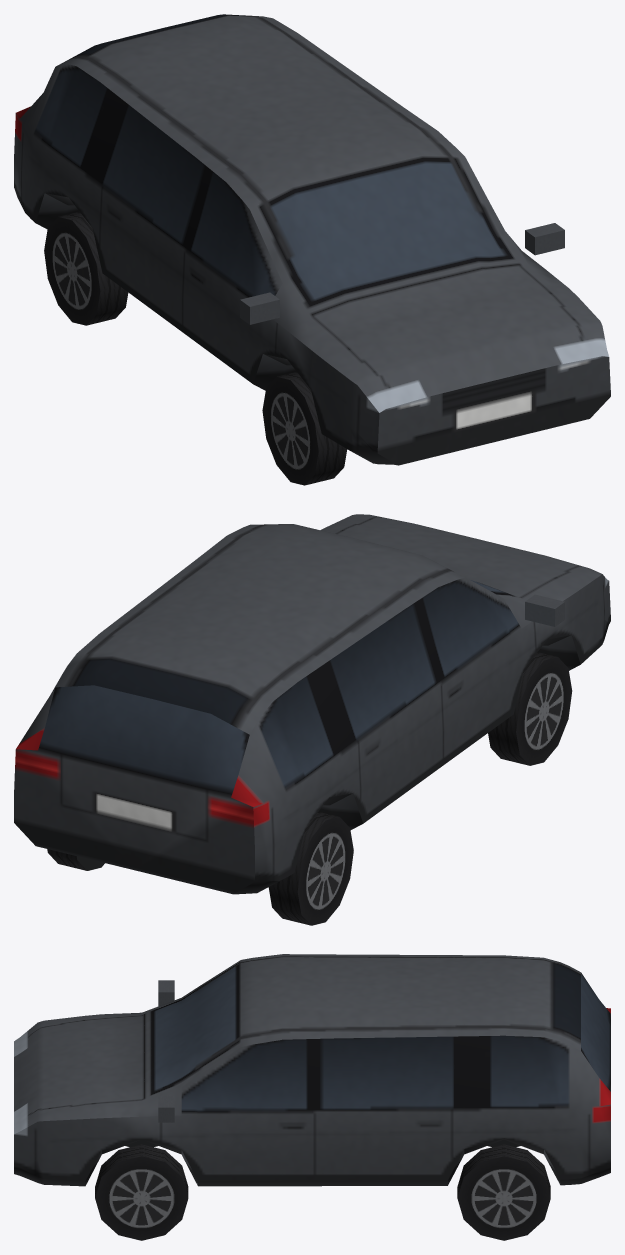
File: SM_Morin_Auto_B_v2_GrigioScuro_LOD1.fbx
3 renders of one model, top to bottom at view 1: azimuth 30°, elevation 25°; view 2: azimuth 150°, elevation 25°; view 3: azimuth 270°, elevation 25°, orthographic. The views are drawn at different scales.
Visible parts, largest first — view 1: SM_Morin_Auto_B_v2_GrigioScuro_LOD1; view 2: SM_Morin_Auto_B_v2_GrigioScuro_LOD1; view 3: SM_Morin_Auto_B_v2_GrigioScuro_LOD1.
Part boxes in pixels (x1,y1,x2,y2): SM_Morin_Auto_B_v2_GrigioScuro_LOD1: (14,14,610,485); SM_Morin_Auto_B_v2_GrigioScuro_LOD1: (14,514,610,925); SM_Morin_Auto_B_v2_GrigioScuro_LOD1: (14,954,610,1240).
Size of the model in its own units: 220 by 435 by 164.
1 material, 1 textured.
